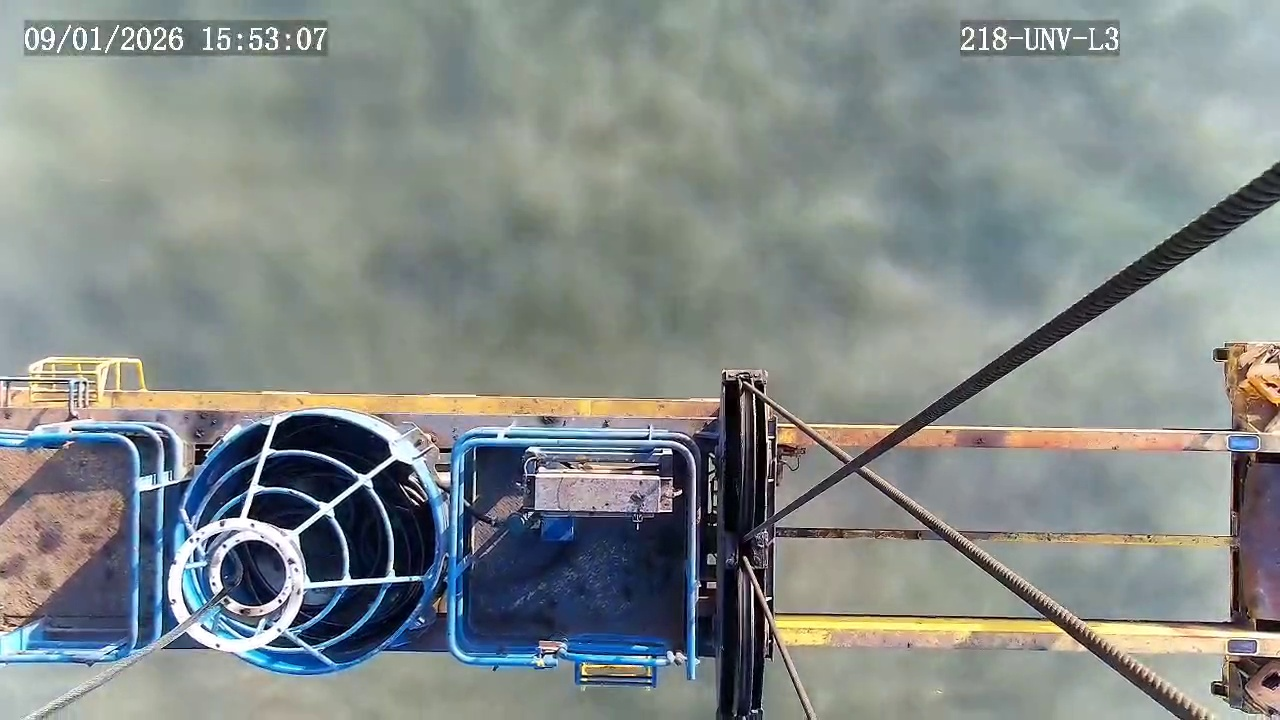right: (173, 413, 439, 675)
